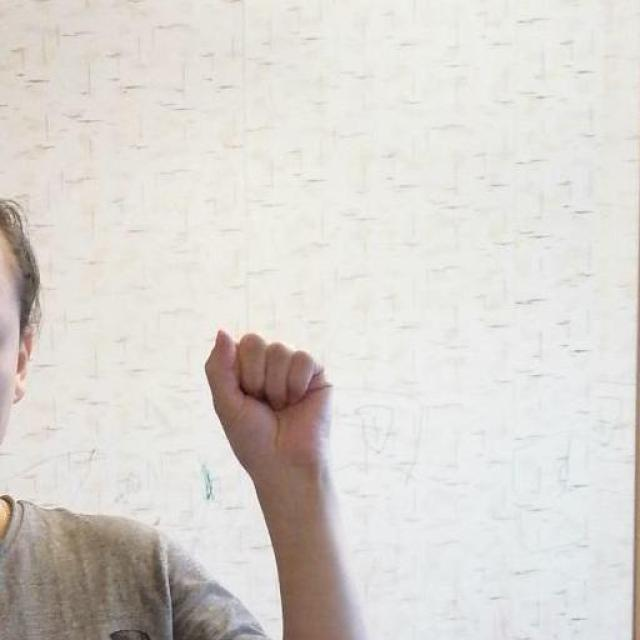hand: (202, 328, 374, 638), (202, 328, 334, 480)
